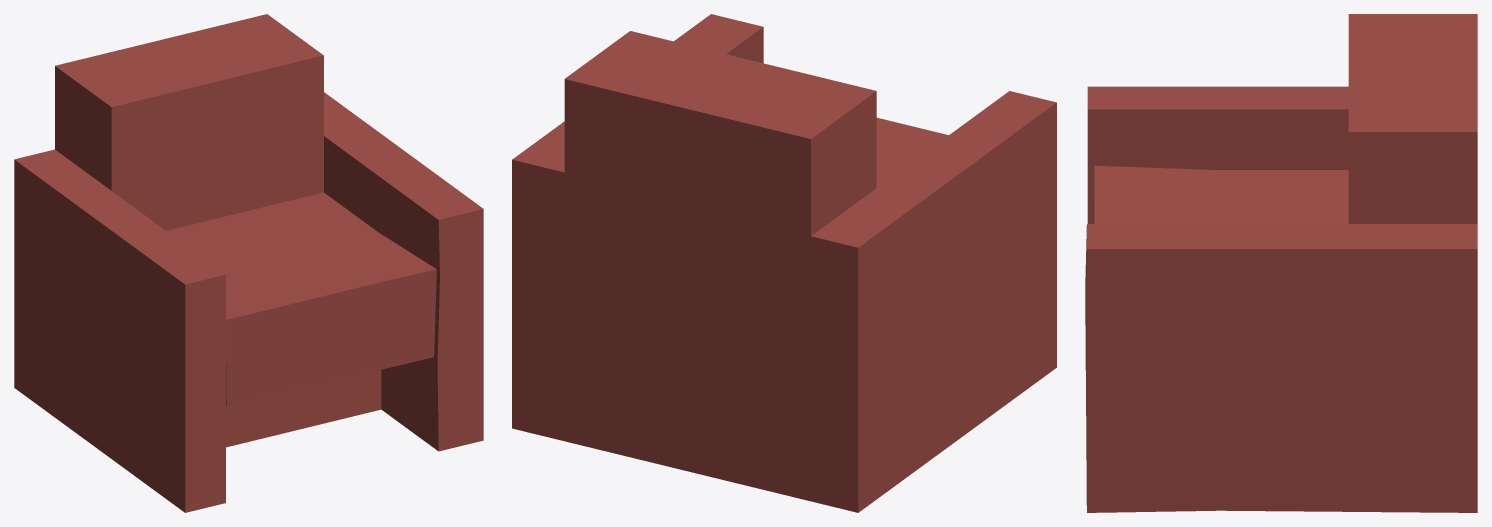
Rendered from sessel.fbx.
3 views of the same model, side by side, from view 1: azimuth 30°, elevation 25°; view 2: azimuth 150°, elevation 25°; view 3: azimuth 270°, elevation 25° (orthographic). The views are drawn at different scales.
Visible parts, largest first — view 1: Cube.001; view 2: Cube.001; view 3: Cube.001.
Part boxes in pixels (x1,y1,x2,y2): Cube.001: (14,14,483,512); Cube.001: (512,14,1056,512); Cube.001: (1085,14,1477,512).
Bounding box in the file's own units: 100 × 100 × 100.
